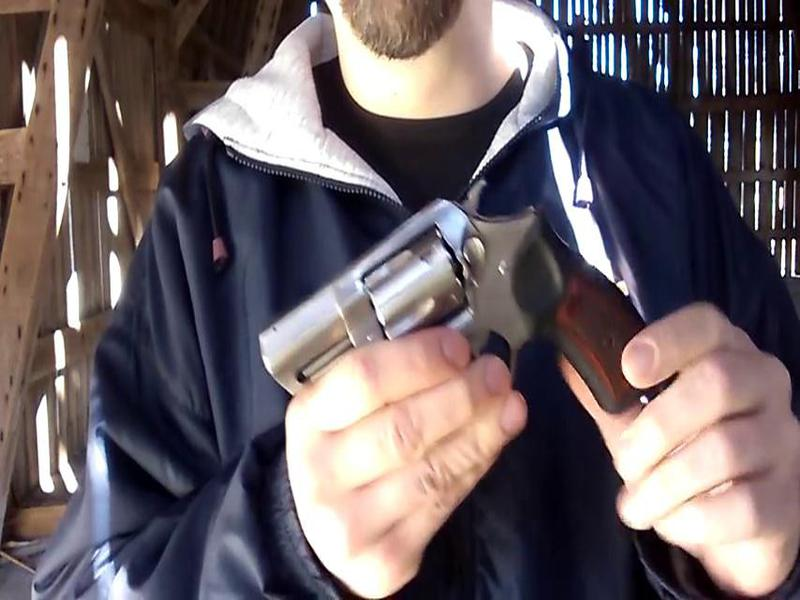Revolver: (224, 184, 691, 444)
